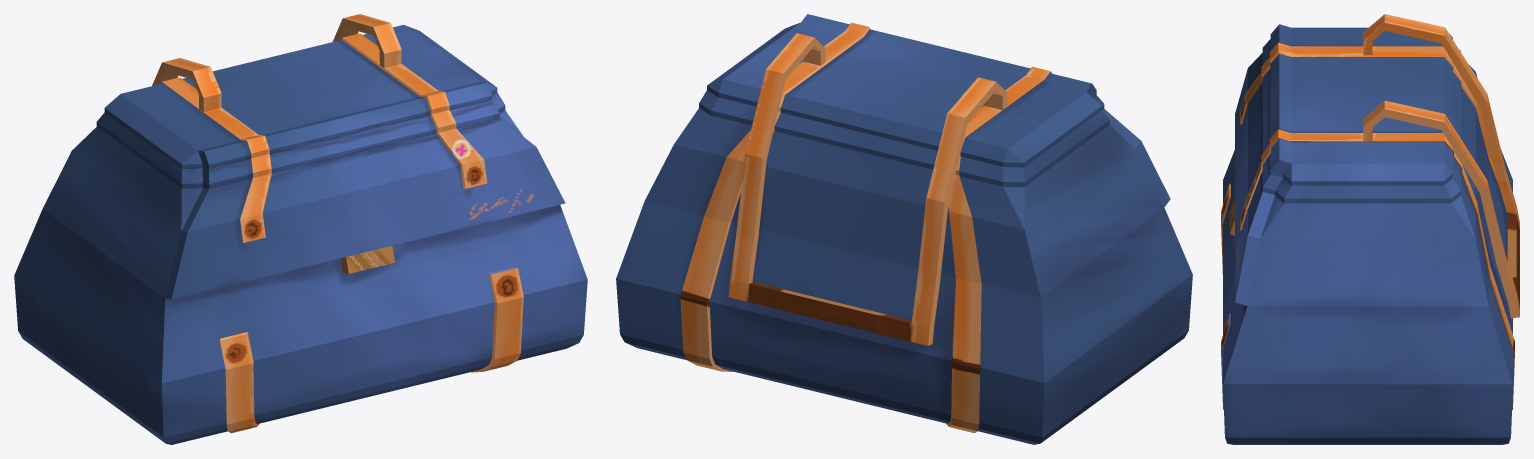
The model's file is torba.fbx.
3 views of the same model, side by side, from view 1: azimuth 30°, elevation 25°; view 2: azimuth 150°, elevation 25°; view 3: azimuth 270°, elevation 25° (orthographic). The views are drawn at different scales.
Visible parts, largest first — view 1: Cube; view 2: Cube; view 3: Cube.
Boxes of the visible parts, x1,y1,x2,y2 form: Cube: (14, 14, 587, 444); Cube: (616, 14, 1192, 444); Cube: (1221, 14, 1519, 444).
Size of the model in its own units: 46.5 by 31.04 by 28.75.
Materials: 1 (1 with a texture image).
